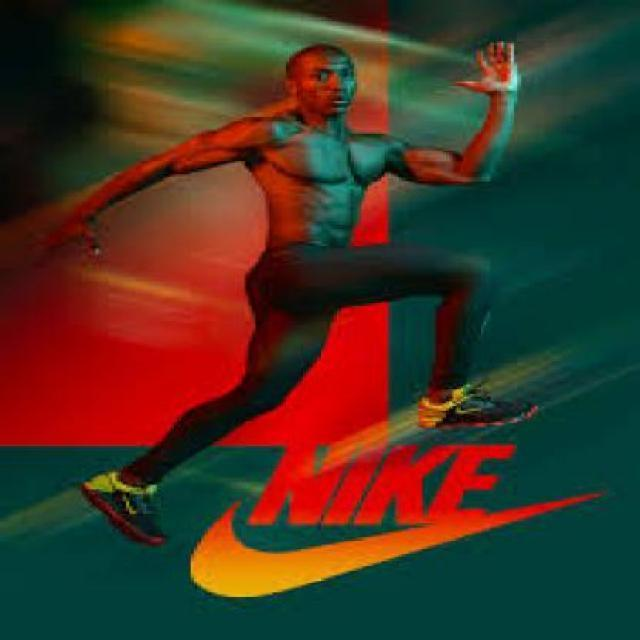Nike: (177, 435, 603, 600)
